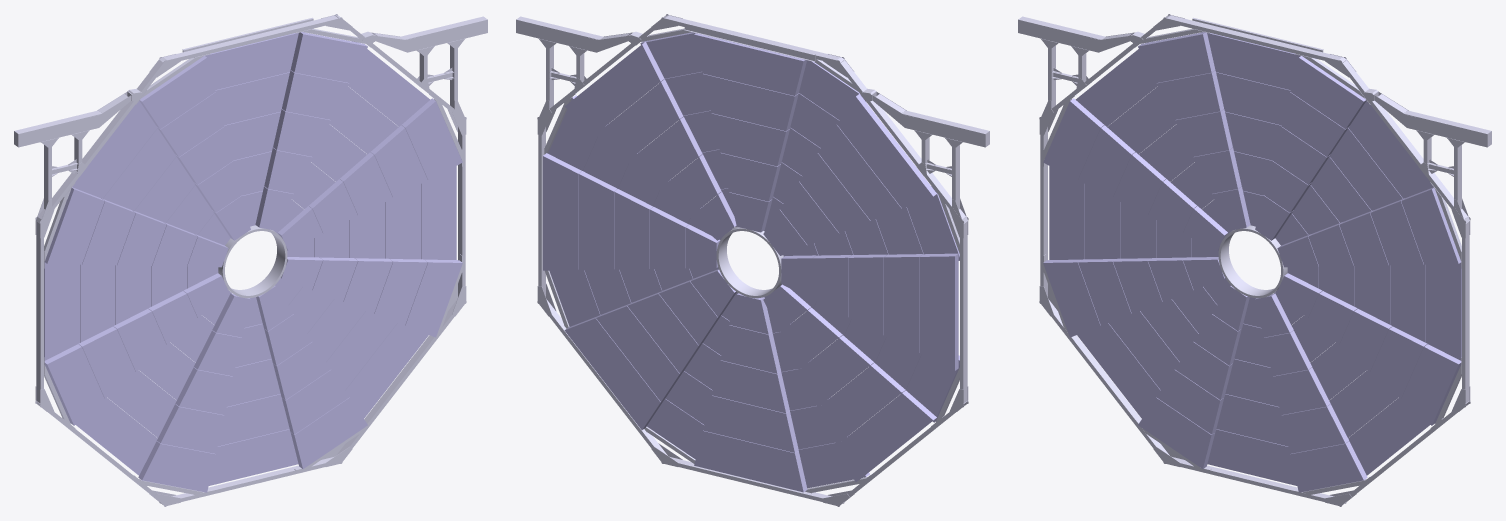
Rendered from Muon-Big-Wheel-MDT-SideC-cut1.glb.
3 renders of one model, left to right at view 1: azimuth 30°, elevation 25°; view 2: azimuth 150°, elevation 25°; view 3: azimuth 330°, elevation 25°, orthographic.
Visible parts, largest first — view 1: null; view 2: null; view 3: null.
Boxes of the visible parts, left/top/right/bottom form: null: left=14, top=14, right=487, bottom=506; null: left=516, top=14, right=989, bottom=506; null: left=1018, top=14, right=1491, bottom=506.
Bounding box in the file's own units: 25.72 × 23.42 × 0.78.
